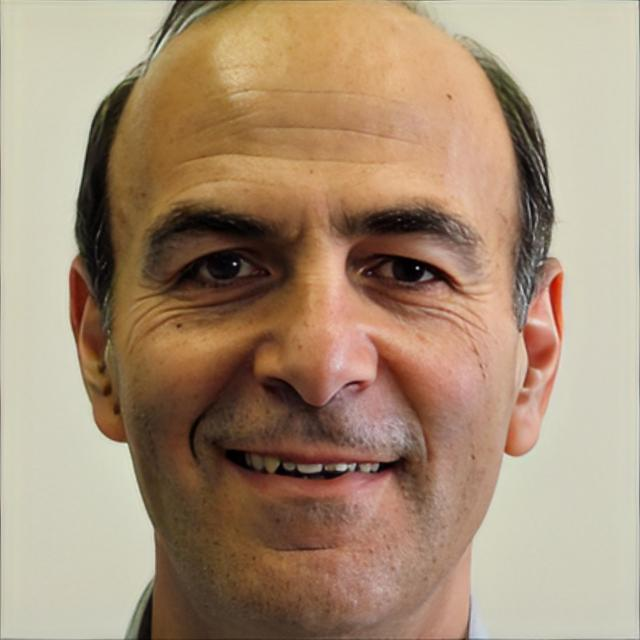happy: (112, 0, 520, 633)
